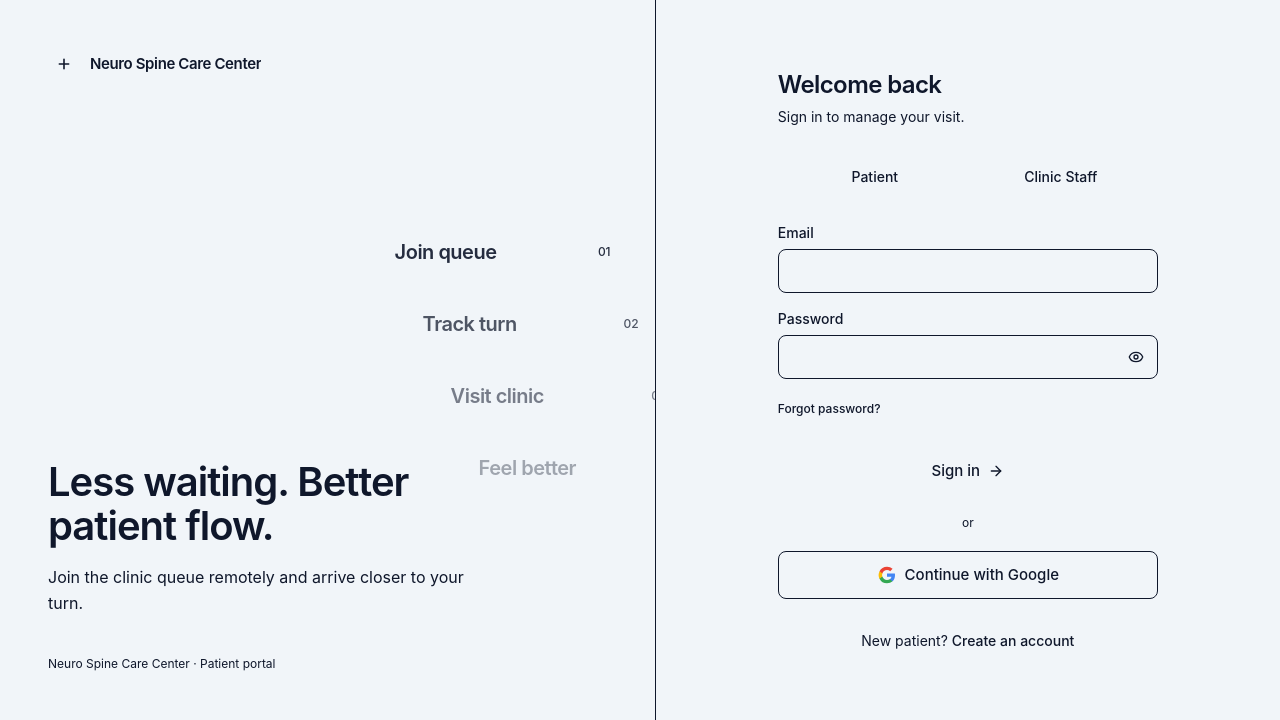
Scenario: offers Google only on the patient login tab
The image size is (1280, 720).
Expected: the button "Continue with Google" is shown, [778, 551, 1158, 599]
Click the button "Clinic staff" at (1061,177), box [968, 159, 1154, 195]
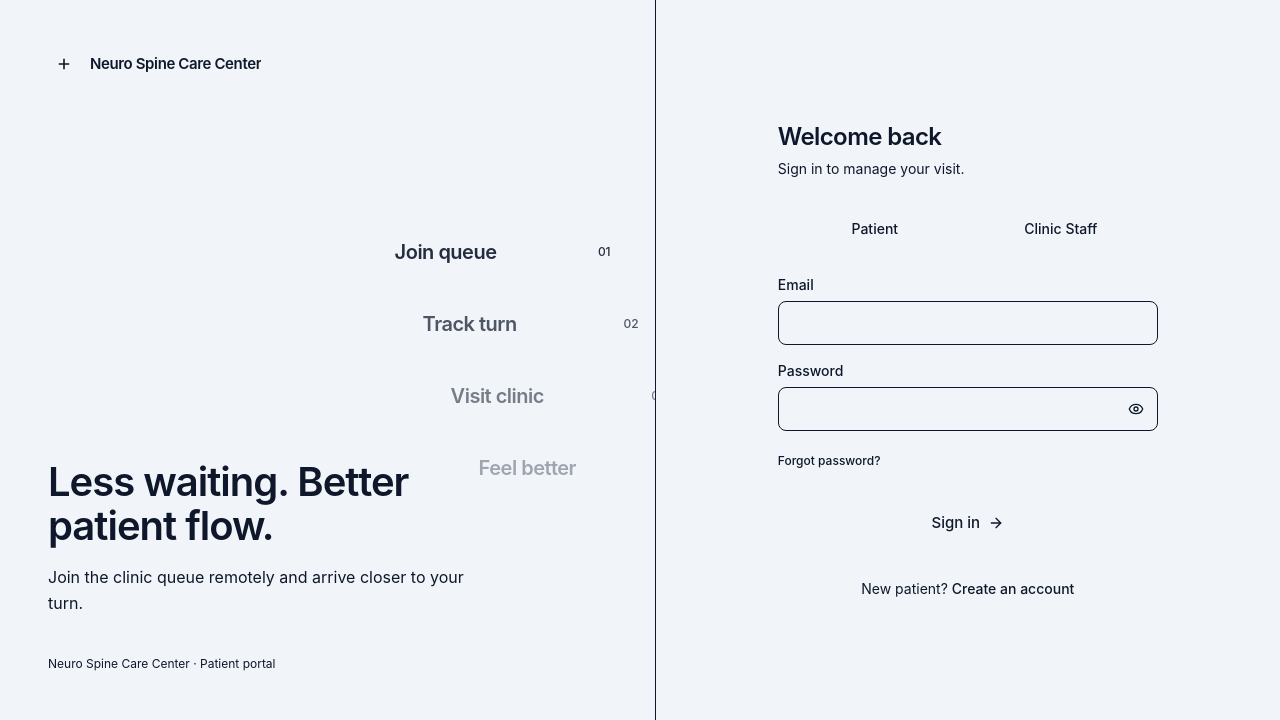
Expected: the button "Continue with Google" is gone
